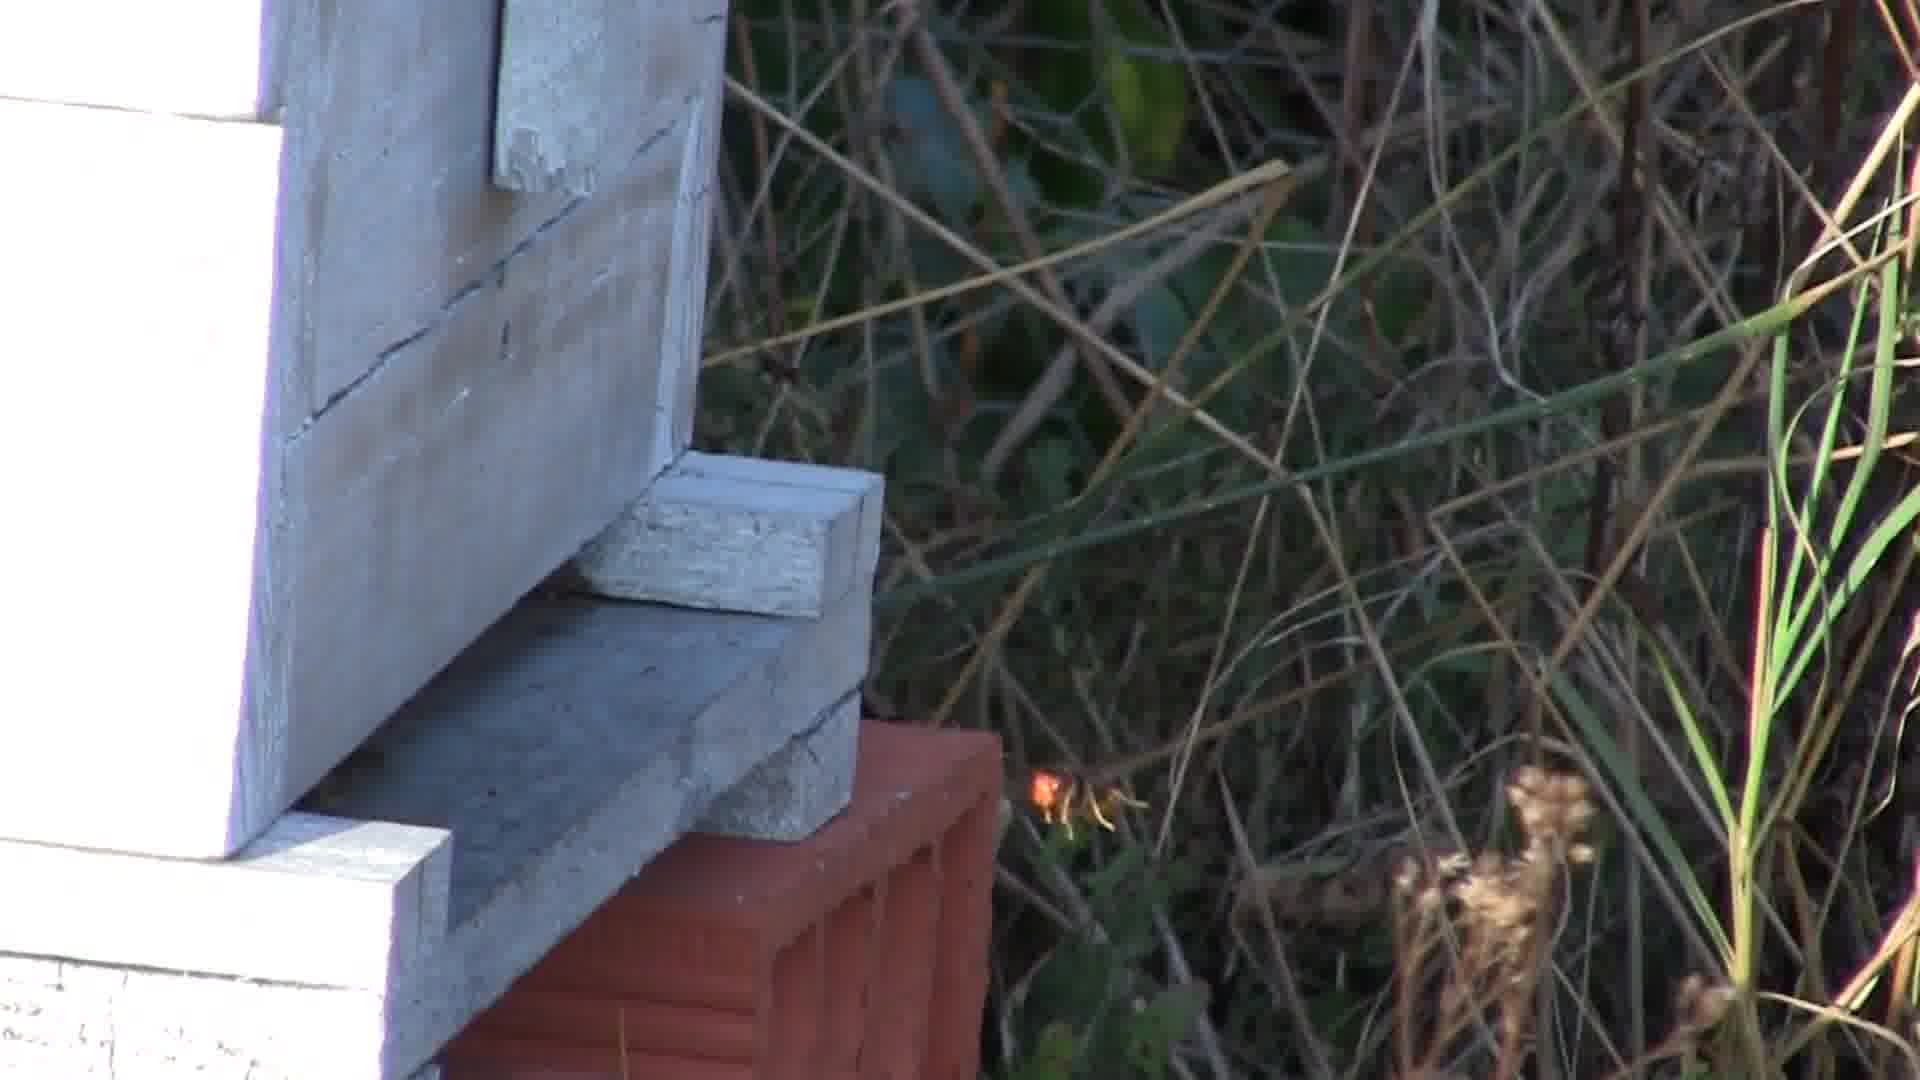hornet: (1023, 753, 1153, 847)
